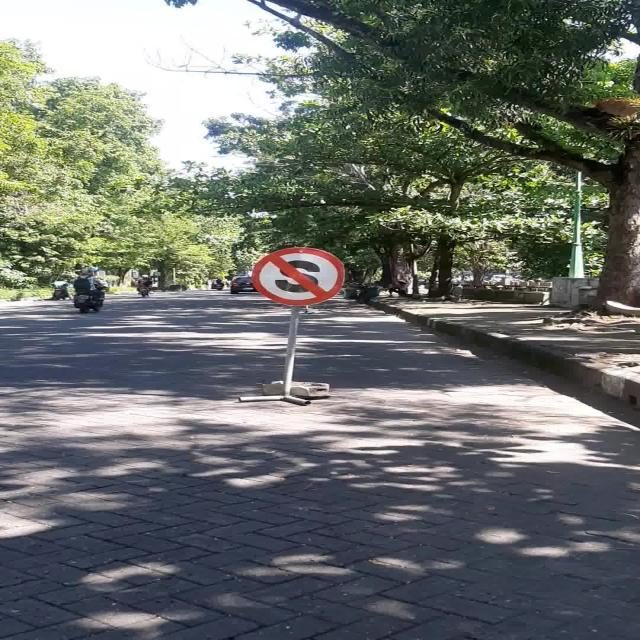Dilarang Berhenti: (251, 248, 345, 306)
